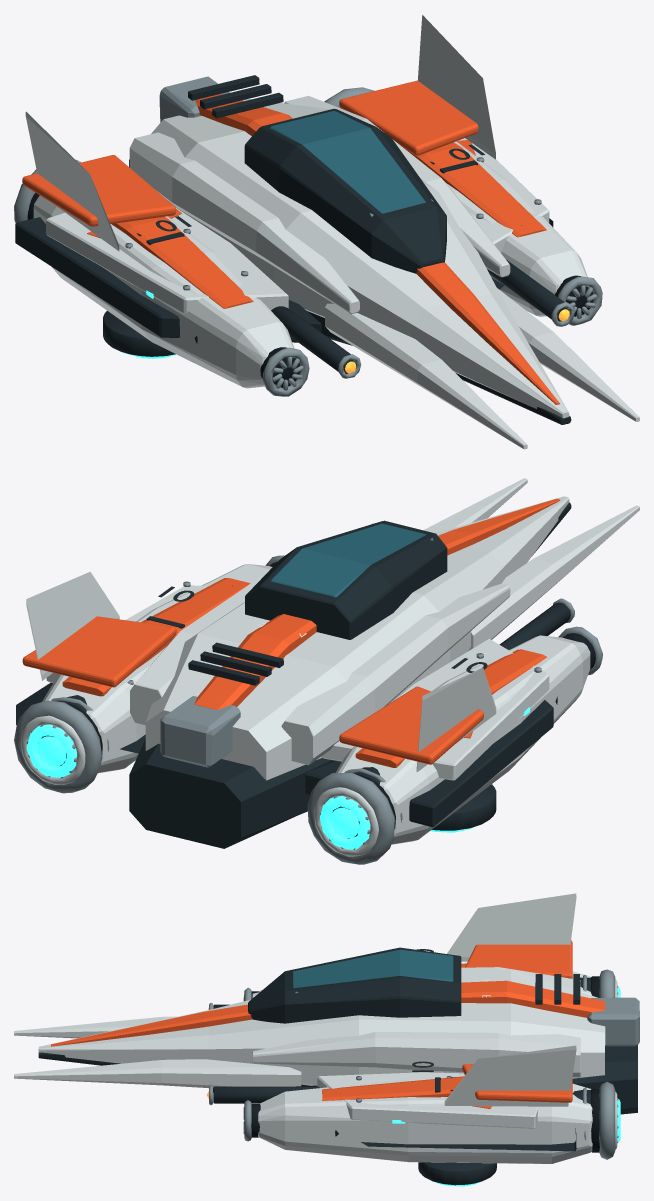
File: needle-lod.glb
3 views of the same model, one above another, from view 1: azimuth 30°, elevation 25°; view 2: azimuth 150°, elevation 25°; view 3: azimuth 270°, elevation 25° (orthographic). The views are drawn at different scales.
Visible parts, largest first — view 1: Ceramic_Paint, Carbon_Composite, Livery_Paint, Canopy_Glass, Titanium, Airbrake_R, Airbrake_L, Recesses; view 2: Ceramic_Paint, Carbon_Composite, Titanium, Livery_Paint, Airbrake_R, Canopy_Glass, Airbrake_L, Ion_Emission, Recesses; view 3: Ceramic_Paint, Carbon_Composite, Livery_Paint, Titanium, Canopy_Glass, Airbrake_L, Airbrake_R, Recesses.
Boxes of the visible parts, left/top/right/bottom form: Ceramic_Paint: left=25, top=15, right=639, bottom=449; Carbon_Composite: left=15, top=75, right=571, bottom=424; Livery_Paint: left=87, top=94, right=559, bottom=404; Canopy_Glass: left=270, top=111, right=425, bottom=213; Titanium: left=14, top=76, right=602, bottom=396; Airbrake_R: left=339, top=80, right=478, bottom=155; Airbrake_L: left=22, top=155, right=176, bottom=226; Recesses: left=27, top=193, right=593, bottom=387; Ceramic_Paint: left=20, top=478, right=639, bottom=856; Carbon_Composite: left=16, top=502, right=571, bottom=848; Titanium: left=14, top=523, right=602, bottom=864; Livery_Paint: left=62, top=498, right=560, bottom=767; Airbrake_R: left=22, top=616, right=176, bottom=687; Canopy_Glass: left=270, top=523, right=426, bottom=597; Airbrake_L: left=339, top=686, right=483, bottom=764; Ion_Emission: left=26, top=513, right=621, bottom=849; Recesses: left=67, top=562, right=595, bottom=829; Ceramic_Paint: left=14, top=893, right=617, bottom=1163; Carbon_Composite: left=38, top=947, right=637, bottom=1185; Livery_Paint: left=51, top=963, right=605, bottom=1108; Titanium: left=209, top=969, right=639, bottom=1159; Canopy_Glass: left=293, top=949, right=453, bottom=988; Airbrake_L: left=465, top=940, right=572, bottom=978; Airbrake_R: left=462, top=1064, right=572, bottom=1102; Recesses: left=251, top=976, right=599, bottom=1152.
Size of the model in its own units: 4.63 by 2.09 by 7.62.
